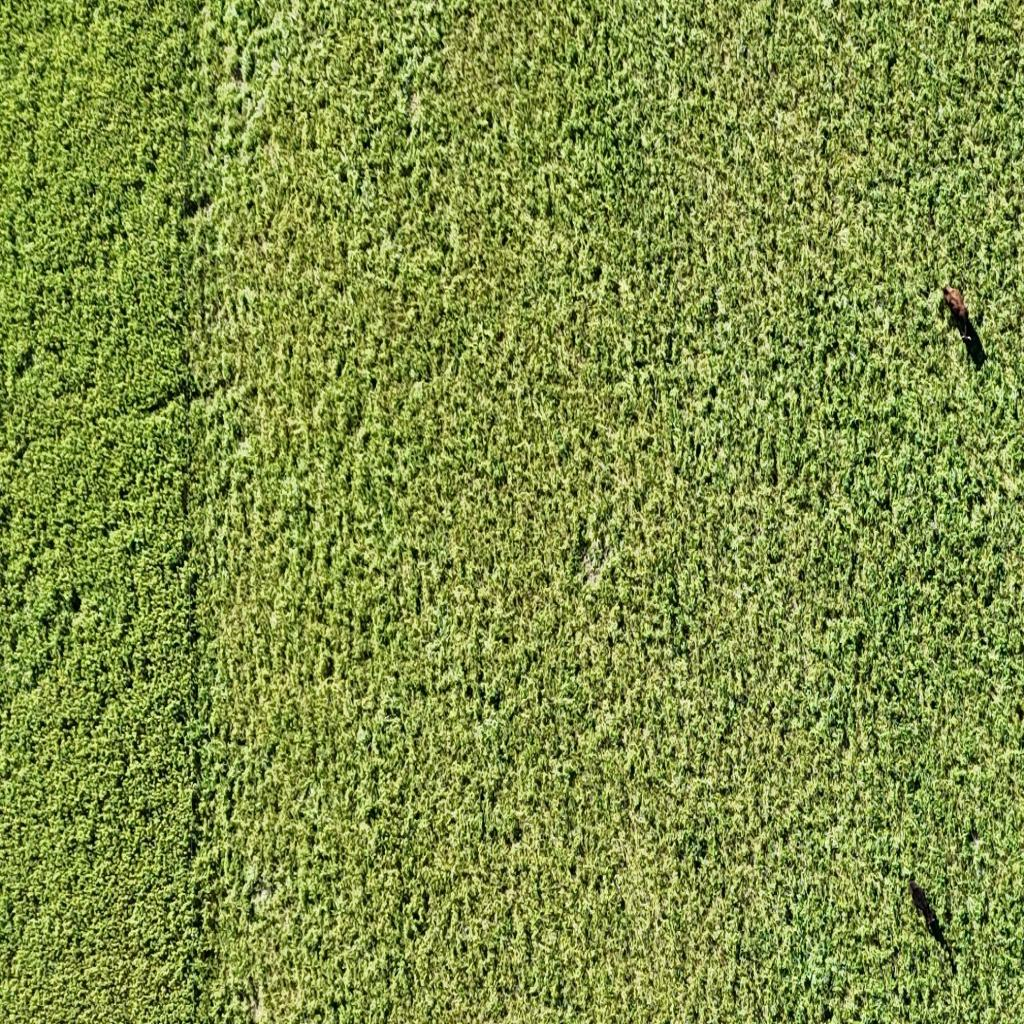cow: (943, 286, 984, 368), (908, 880, 936, 928)
